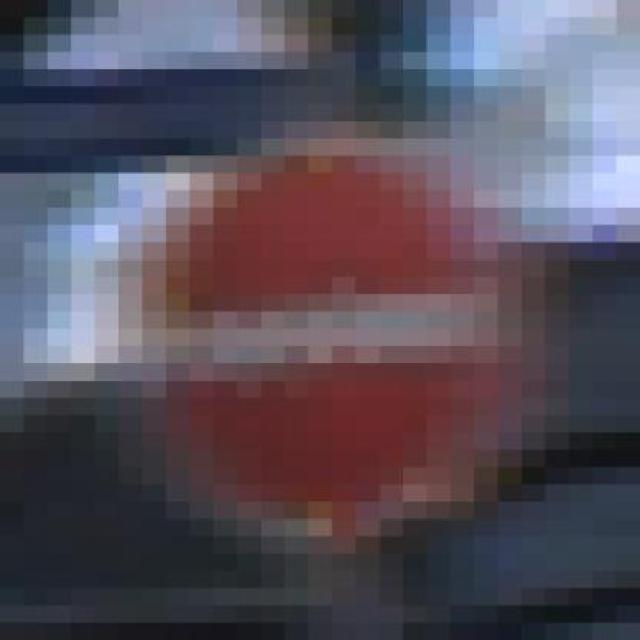No Entry: (47, 121, 616, 553)
